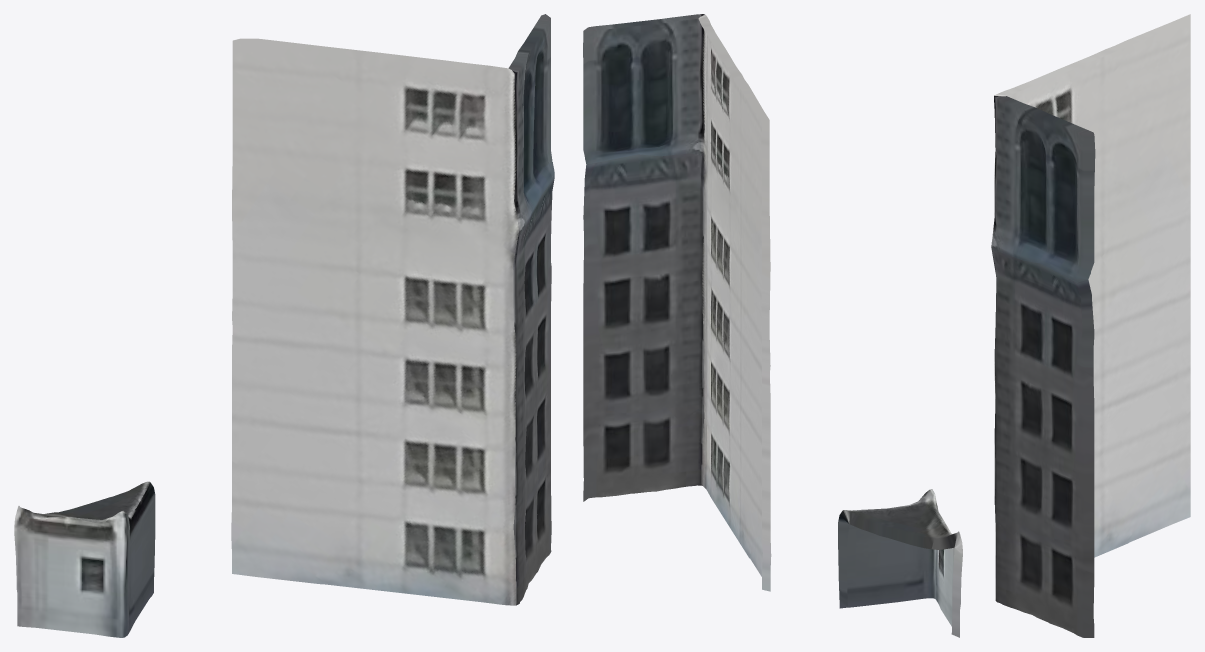
Rendered from z20-167783-405231-h1-yup-uvflip-v3-world.glb.
3 views of the same model, side by side, from view 1: azimuth 30°, elevation 25°; view 2: azimuth 150°, elevation 25°; view 3: azimuth 270°, elevation 25° (orthographic). The views are drawn at different scales.
Bounding box in the file's own units: 24.36 × 25.84 × 9.28.
Materials: 1 (1 with a texture image).
